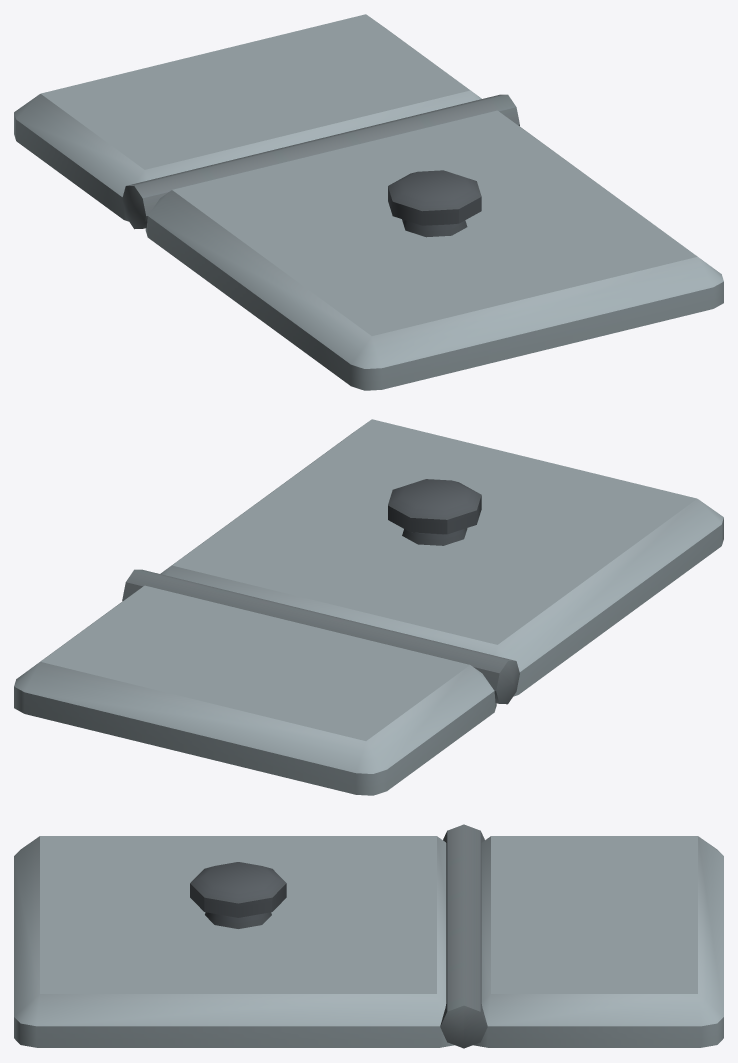
File: icecream_container_top.gltf
3 renders of one model, top to bottom at view 1: azimuth 30°, elevation 25°; view 2: azimuth 150°, elevation 25°; view 3: azimuth 270°, elevation 25°, orthographic.
Parts seen in each view (by area): view 1: icecream_container_top_lid, icecream_container_top; view 2: icecream_container_top_lid, icecream_container_top; view 3: icecream_container_top_lid, icecream_container_top.
Boxes of the visible parts, box(x1,y1,x2,y2) form: icecream_container_top_lid: box(145, 110, 723, 390); icecream_container_top: box(14, 14, 519, 229); icecream_container_top_lid: box(160, 419, 723, 696); icecream_container_top: box(14, 569, 519, 795); icecream_container_top_lid: box(14, 836, 454, 1047); icecream_container_top: box(440, 824, 723, 1048).
Size of the model in its own units: 0.9275 by 0.1904 by 1.49.
Materials: 1 (1 with a texture image).
